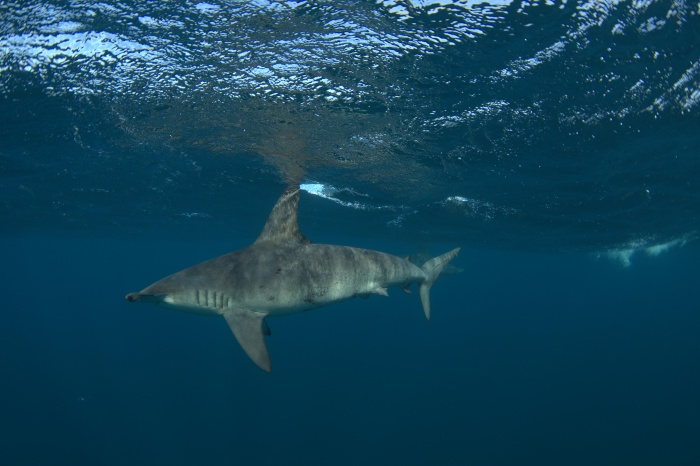Hammer: (115, 179, 477, 391)
